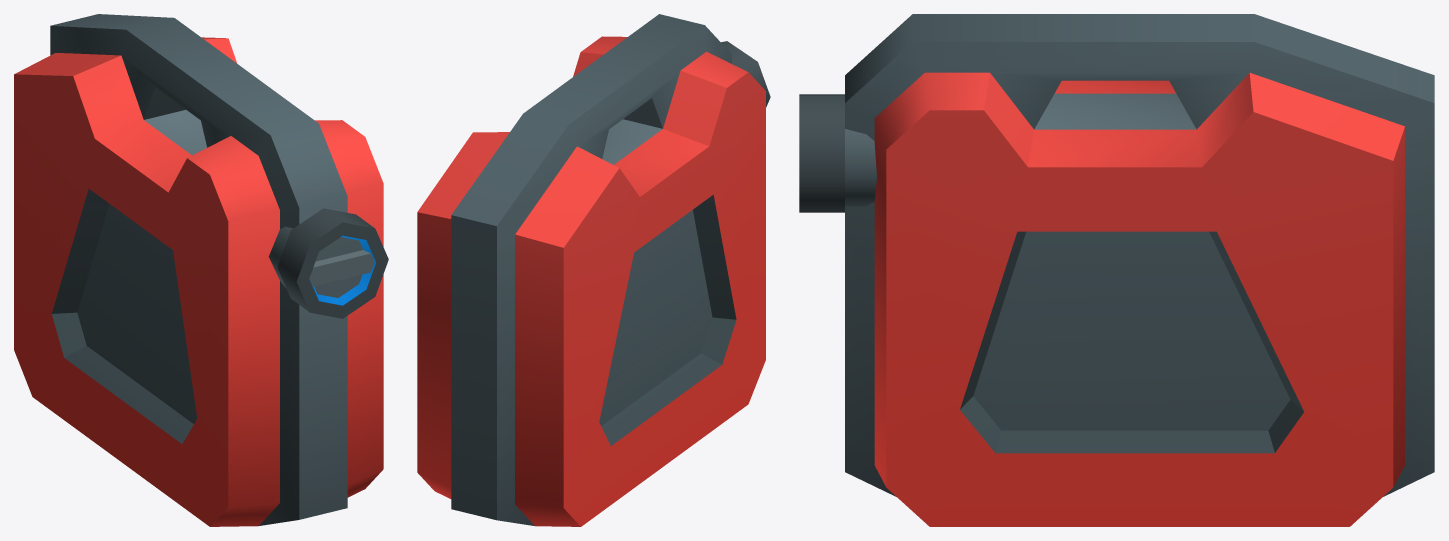
The model's file is Gas_can_005.glb.
3 renders of one model, left to right at view 1: azimuth 30°, elevation 25°; view 2: azimuth 150°, elevation 25°; view 3: azimuth 270°, elevation 25°, orthographic. The views are drawn at different scales.
Visible parts, largest first — view 1: Gas_can_005; view 2: Gas_can_005; view 3: Gas_can_005.
Boxes of the visible parts, box(x1,y1,x2,y2) form: Gas_can_005: box(14, 14, 388, 526); Gas_can_005: box(417, 14, 770, 526); Gas_can_005: box(799, 14, 1434, 526).
Size of the model in its own units: 0.2005 by 0.4846 by 0.6001.
2 materials, 2 textured.
